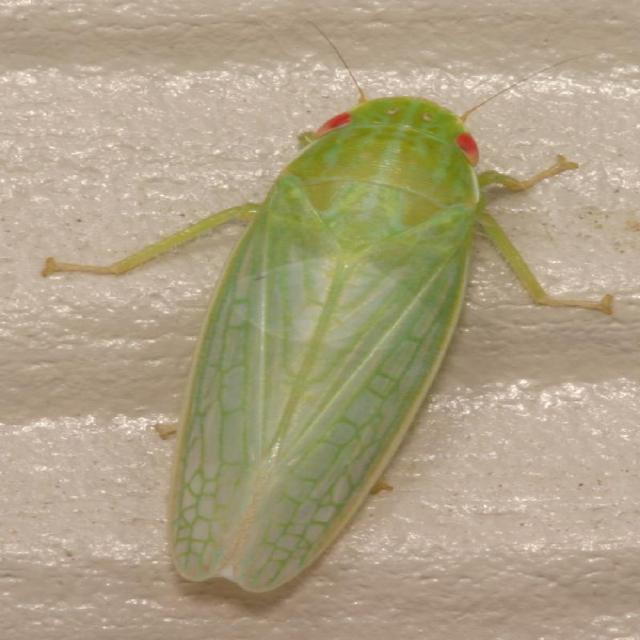Yechan: (152, 61, 508, 600)
